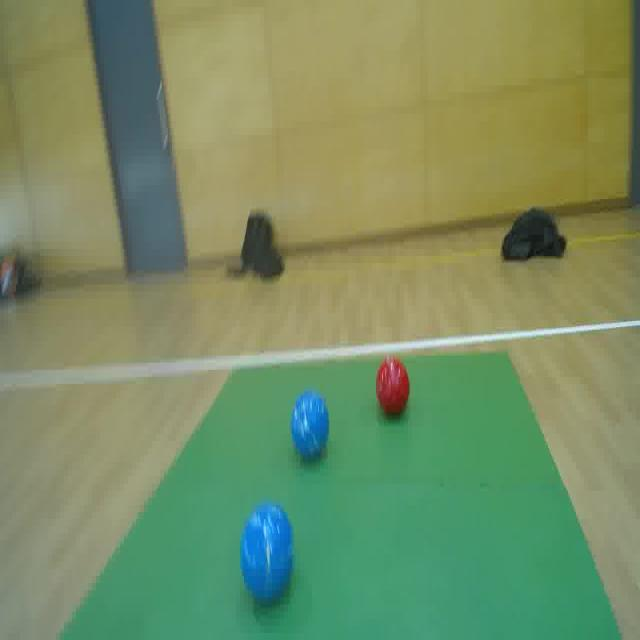blue_ball: (237, 501, 296, 606), (288, 385, 331, 465)
red_ball: (374, 350, 411, 422)
